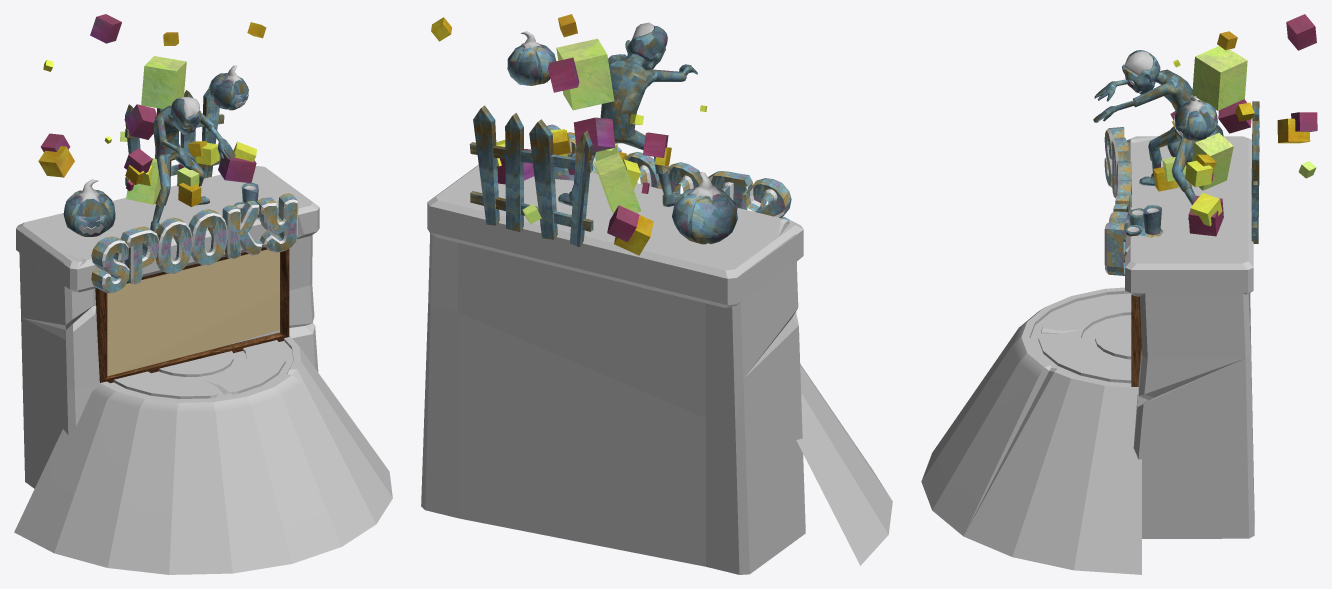
File: Str_Stand_Spooky_Art.fbx
The picture shows the model from 3 angles, left to right: view 1: azimuth 30°, elevation 25°; view 2: azimuth 150°, elevation 25°; view 3: azimuth 270°, elevation 25°; orthographic projection. The views are drawn at different scales.
Parts seen in each view (by area): view 1: Str_Stand_Spooky; view 2: Str_Stand_Spooky; view 3: Str_Stand_Spooky.
Boxes of the visible parts, x1=… form: Str_Stand_Spooky: x1=14, y1=14, x2=392, y2=574; Str_Stand_Spooky: x1=421, y1=14, x2=892, y2=574; Str_Stand_Spooky: x1=921, y1=14, x2=1317, y2=574.
Size of the model in its own units: 1541 by 1767 by 1383.
